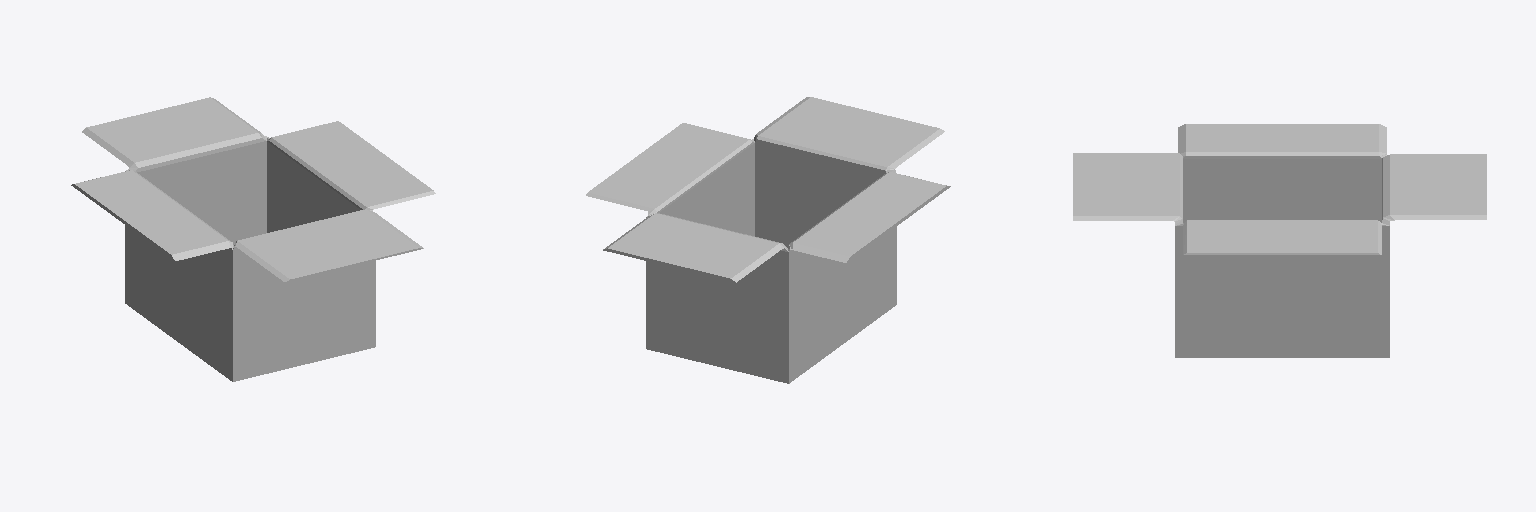
The model's file is Box_Large_Blockout.obj.
3 views of the same model, side by side, from view 1: azimuth 30°, elevation 25°; view 2: azimuth 150°, elevation 25°; view 3: azimuth 270°, elevation 25° (orthographic).
Visible parts, largest first — view 1: Box_Large; view 2: Box_Large; view 3: Box_Large.
Part boxes in pixels (bbox=[...]): Box_Large: bbox=[71, 97, 435, 381]; Box_Large: bbox=[586, 97, 950, 383]; Box_Large: bbox=[1073, 124, 1486, 357].
Size of the model in its own units: 130 by 65.24 by 177.